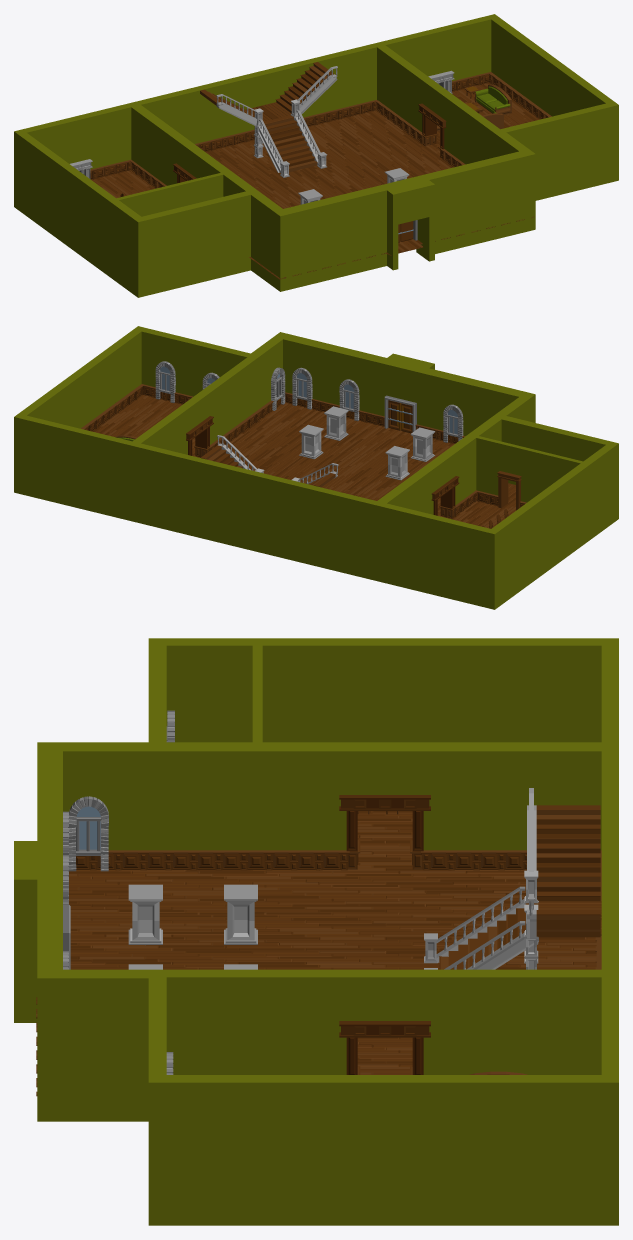
Rendered from castle_town_interior.fbx.
The picture shows the model from 3 angles, top to bottom: view 1: azimuth 30°, elevation 25°; view 2: azimuth 150°, elevation 25°; view 3: azimuth 270°, elevation 25°; orthographic projection. The views are drawn at different scales.
Visible parts, largest first — view 1: walls, floor 1, stair.005, Cube.001; view 2: walls, floor 1, CASTLE OBJECT.002, stair.004, stair.003, stair.005; view 3: walls, floor 1, stair.005, CASTLE OBJECT.002, stair.003.
Part boxes in pixels (x1,y1,x2,y2): walls: (14, 14, 618, 297); floor 1: (91, 83, 539, 279); stair.005: (200, 62, 337, 177); Cube.001: (474, 84, 511, 115); walls: (14, 326, 618, 609); floor 1: (93, 395, 515, 528); CASTLE OBJECT.002: (155, 361, 463, 442); stair.004: (299, 406, 348, 459); stair.003: (385, 427, 435, 480); stair.005: (201, 435, 338, 487); walls: (14, 638, 618, 1225); floor 1: (36, 811, 596, 1096); stair.005: (424, 788, 601, 969); CASTLE OBJECT.002: (63, 710, 174, 1074); stair.003: (128, 884, 257, 945).
Size of the model in its own units: 18594 by 5428 by 32309.
